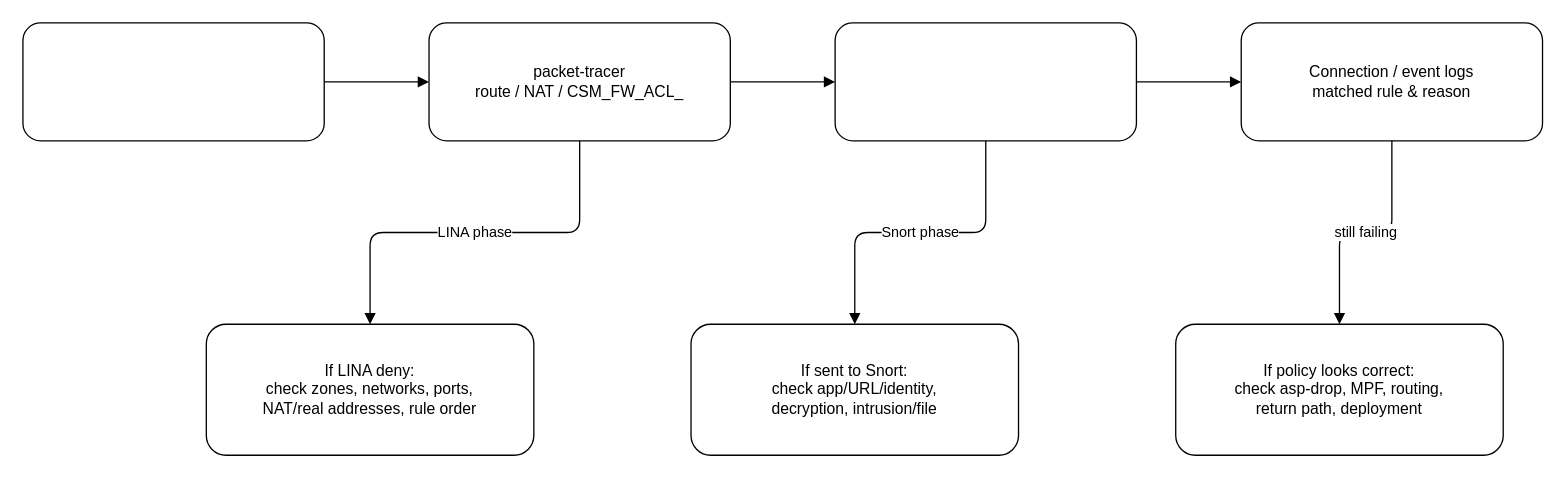
Some shapes in this 1565 by 478 pixel diagram are drawn without their labels. Here are the shapes that lost their labels. From the top down, the box of each, then its label:
(22, 22, 324, 141): Symptom: traffic unexpectedly blocked
(834, 22, 1136, 141): Real packet capture trace detail
